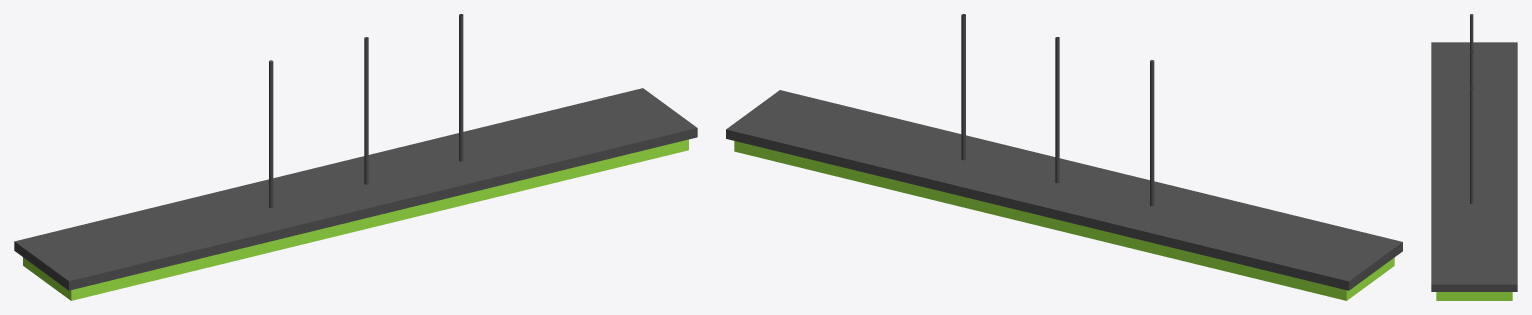
The model's file is lights_02.fbx.
3 views of the same model, side by side, from view 1: azimuth 30°, elevation 25°; view 2: azimuth 150°, elevation 25°; view 3: azimuth 270°, elevation 25° (orthographic). The views are drawn at different scales.
Visible parts, largest first — view 1: lights_02; view 2: lights_02; view 3: lights_02.
Part boxes in pixels (x1,y1,x2,y2): lights_02: (14, 14, 697, 300); lights_02: (726, 14, 1402, 300); lights_02: (1431, 14, 1517, 300).
Size of the model in its own units: 349 by 89.73 by 52.4.
